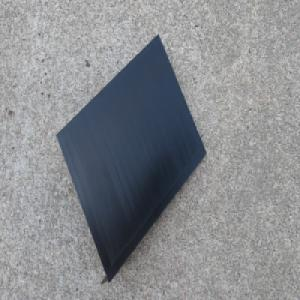PlasticPart: (56, 33, 206, 282)
